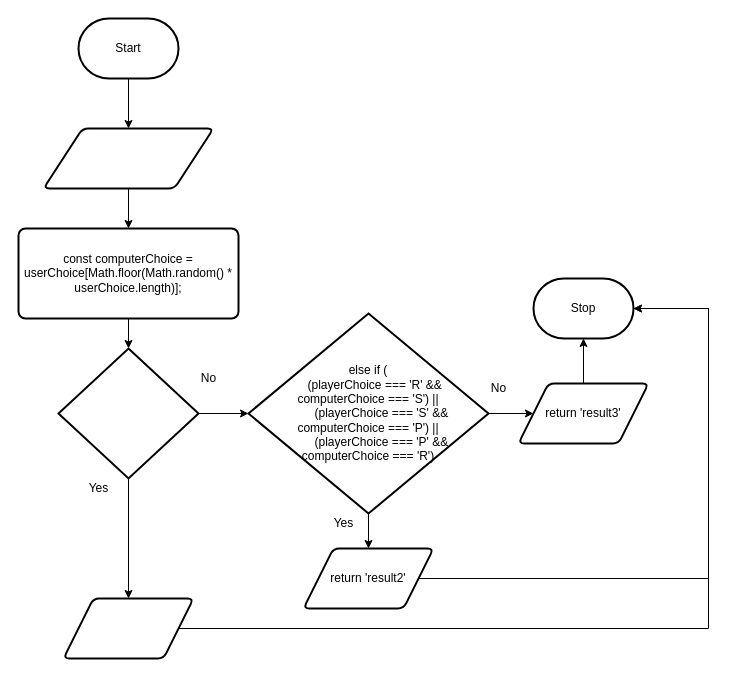
This 734x676 diagram has some shape labels left out. The box of each missing label's shape, as (x1, y1, x2, y2) in pixels:
if (playerChoice === computerChoice): (57, 347, 199, 479)
return 'result1': (62, 597, 194, 659)
Set playerChoice: (42, 127, 214, 189)
